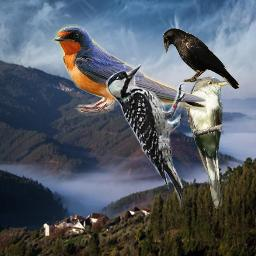Crow: (163, 28, 240, 89)
Cuckoo: (186, 76, 229, 210)
Swallow: (50, 23, 207, 118)
Woodpecker: (105, 64, 189, 213)
